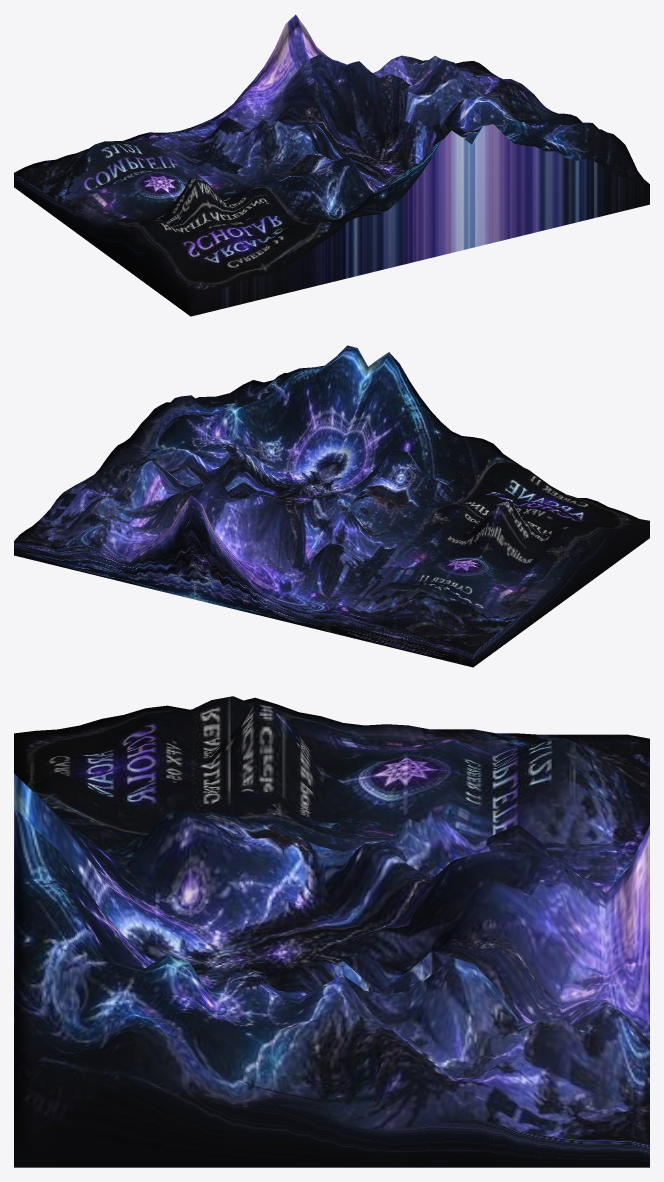
Rendered from CAREER_11_VFX_05_Reality_Altering.glb.
3 views of the same model, one above another, from view 1: azimuth 30°, elevation 25°; view 2: azimuth 150°, elevation 25°; view 3: azimuth 270°, elevation 25° (orthographic). The views are drawn at different scales.
Visible parts, largest first — view 1: CAREER_11_VFX_05_Reality_Altering; view 2: CAREER_11_VFX_05_Reality_Altering; view 3: CAREER_11_VFX_05_Reality_Altering.
Part boxes in pixels (left/top/right/bottom): CAREER_11_VFX_05_Reality_Altering: left=14, top=14, right=649, bottom=316; CAREER_11_VFX_05_Reality_Altering: left=14, top=345, right=649, bottom=667; CAREER_11_VFX_05_Reality_Altering: left=14, top=696, right=649, bottom=1167.
Bounding box in the file's own units: 2 × 0.51 × 1.33.
Materials: 1 (1 with a texture image).
